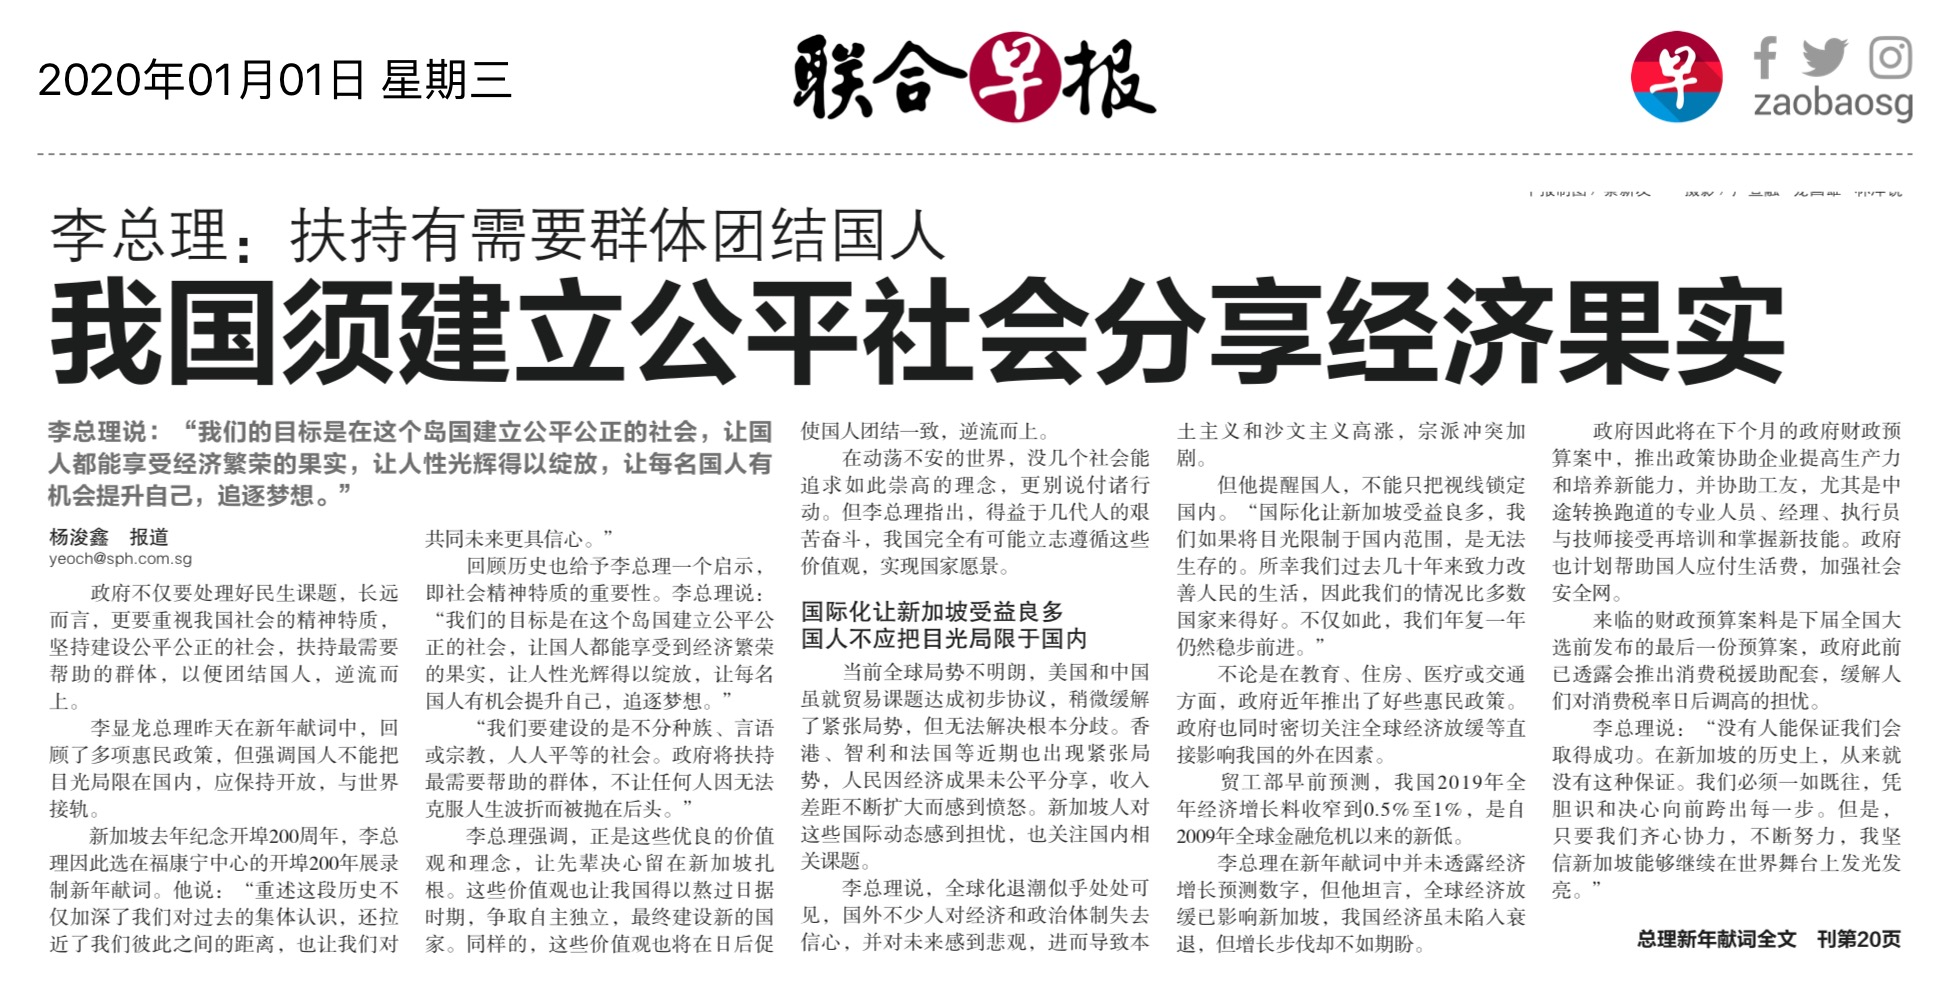heading: (40, 266, 1794, 393)
